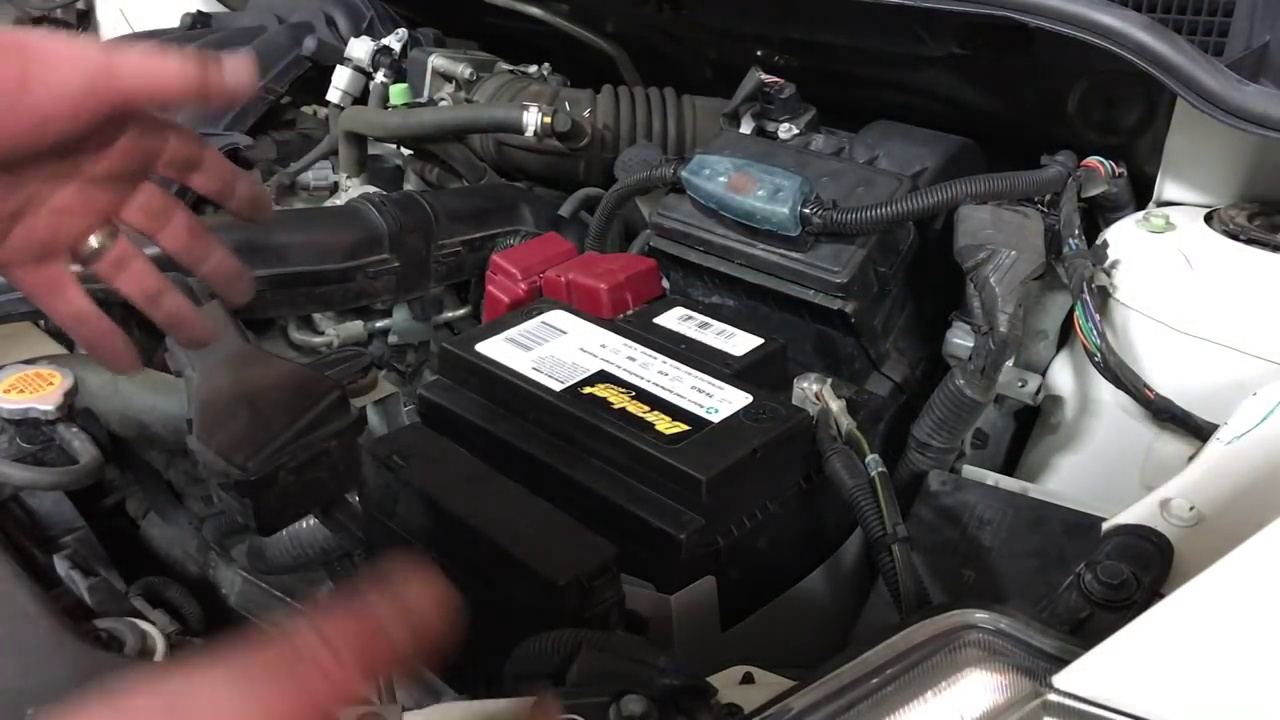battery: (435, 257, 880, 499)
neg_connected: (770, 356, 879, 467)
pos_connected: (468, 212, 654, 343)
